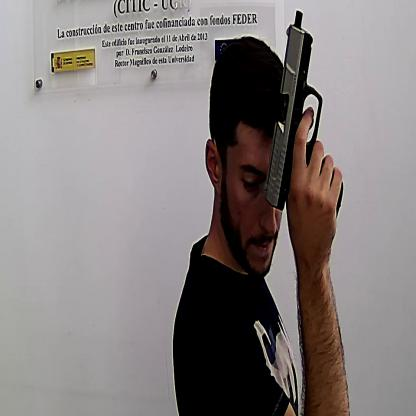gun: (263, 8, 344, 221)
